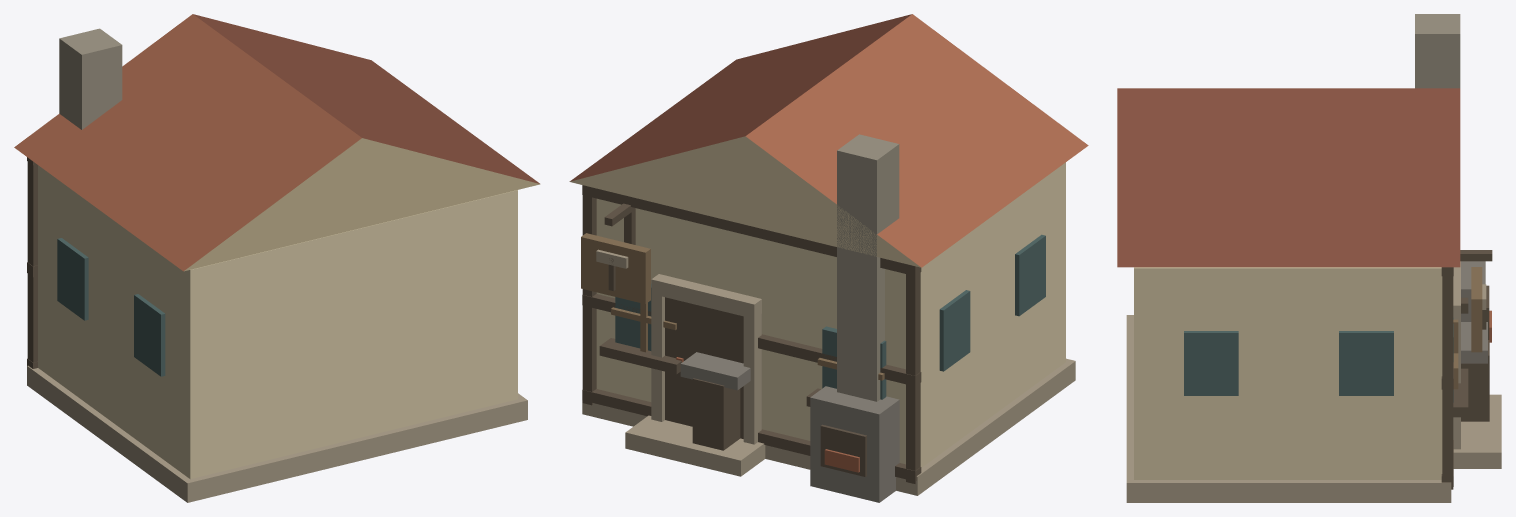
File: Town_Smithy.fbx
3 views of the same model, side by side, from view 1: azimuth 30°, elevation 25°; view 2: azimuth 150°, elevation 25°; view 3: azimuth 270°, elevation 25° (orthographic). The views are drawn at different scales.
Visible parts, largest first — view 1: Town_Smithy; view 2: Town_Smithy; view 3: Town_Smithy.
Part boxes in pixels (<box>): Town_Smithy: <box>14,14,540,502</box>; Town_Smithy: <box>569,14,1088,502</box>; Town_Smithy: <box>1117,14,1501,502</box>.
Size of the model in its own units: 4.58 by 4.1 by 4.21.
